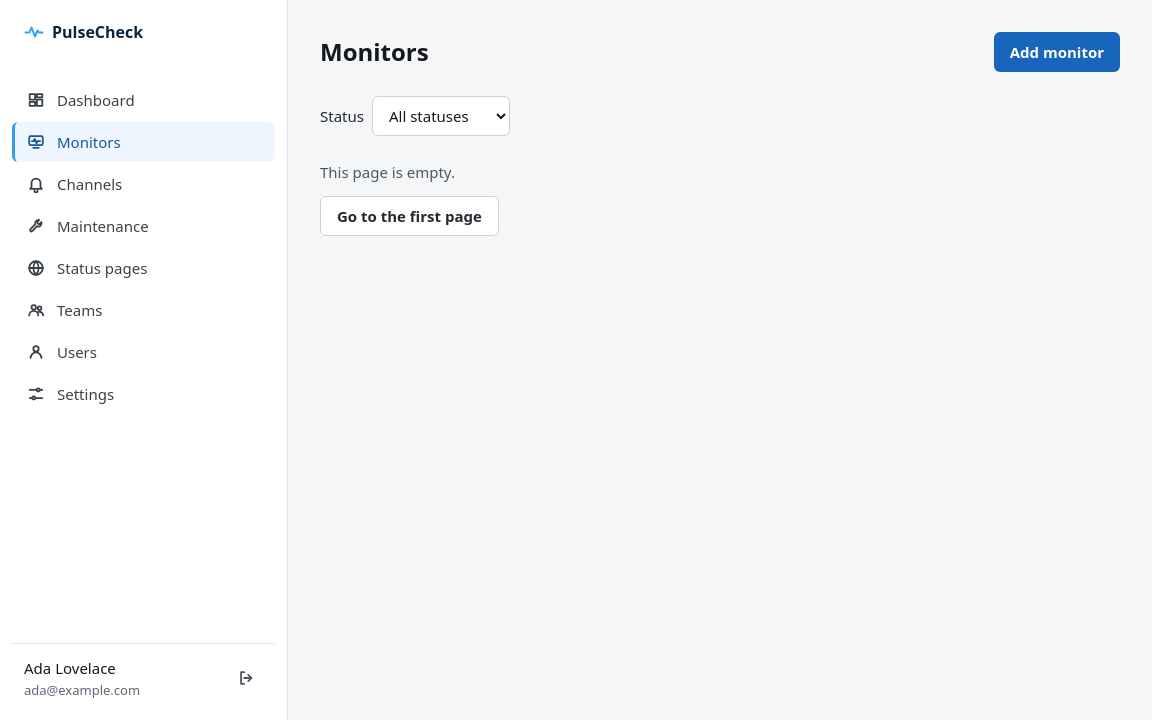
Test case: MonitorsPage › offers to go back when the page is past the last one
expect the text "This page is empty." is shown: met, box [320,160,455,184]
Click the button "Go to the first page" at (409, 216), box [320,196,499,236]
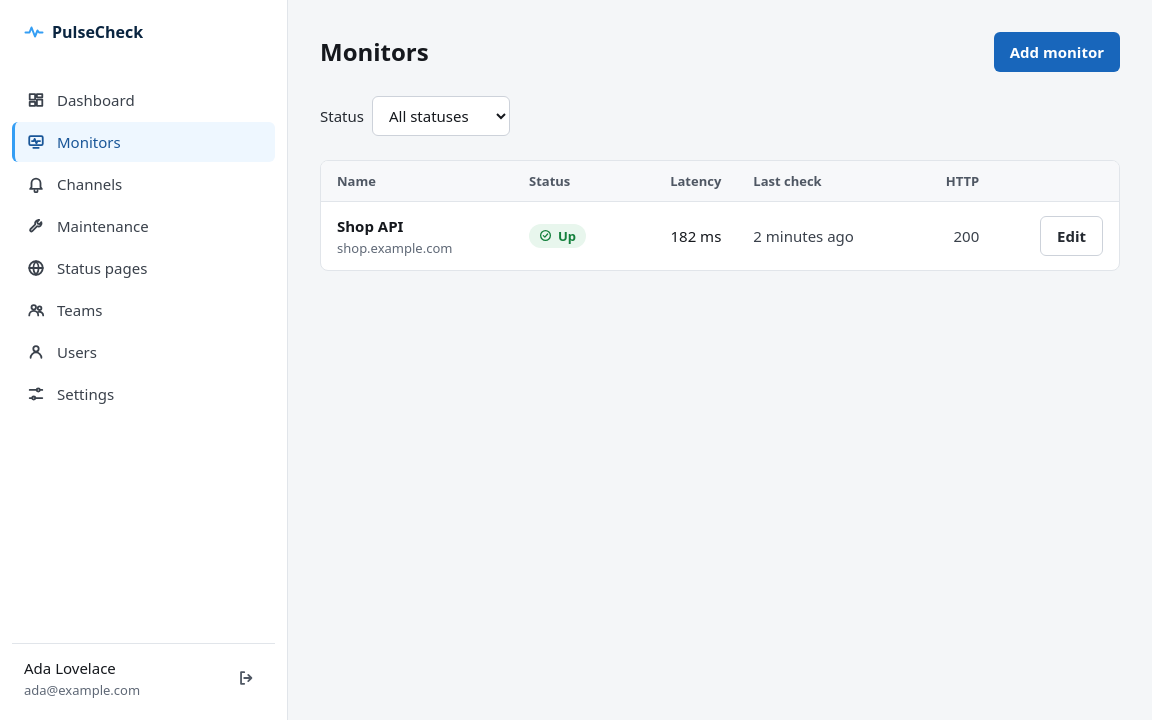
expect the link "Shop API" is shown: met, box [337,216,403,236]
